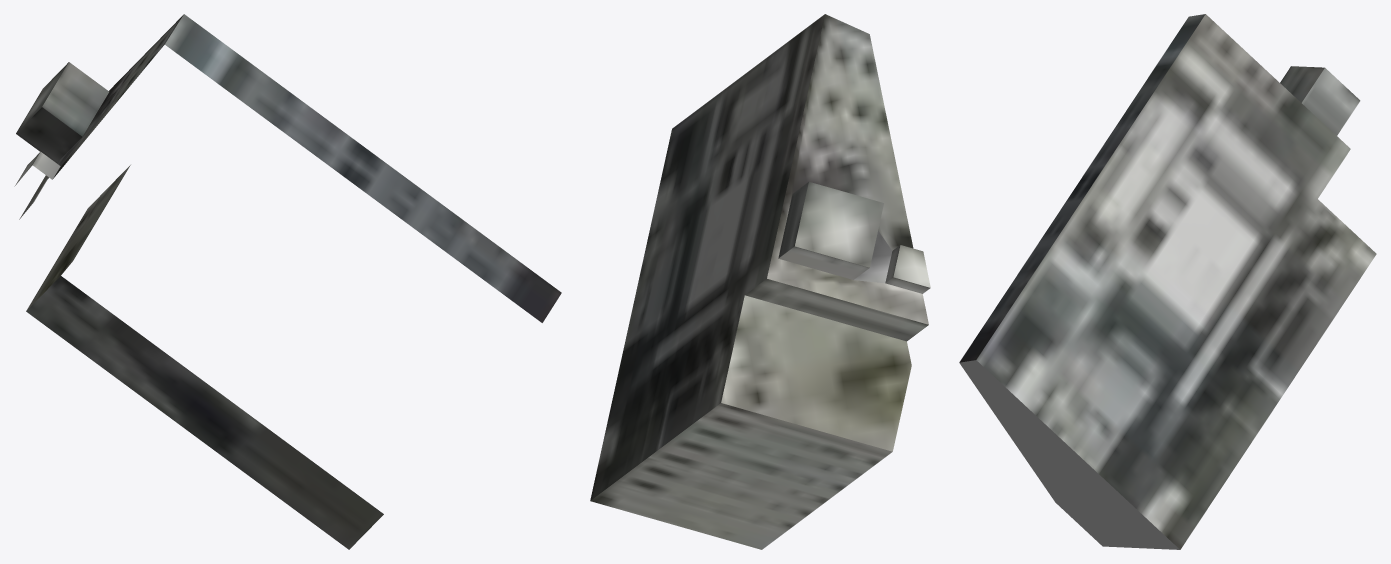
The model's file is 39539_bldg_Building.glb.
3 renders of one model, left to right at view 1: azimuth 30°, elevation 25°; view 2: azimuth 150°, elevation 25°; view 3: azimuth 270°, elevation 25°, orthographic. The views are drawn at different scales.
Bounding box in the file's own units: 28.9 × 37.57 × 29.43.
Materials: 2 (1 with a texture image).
